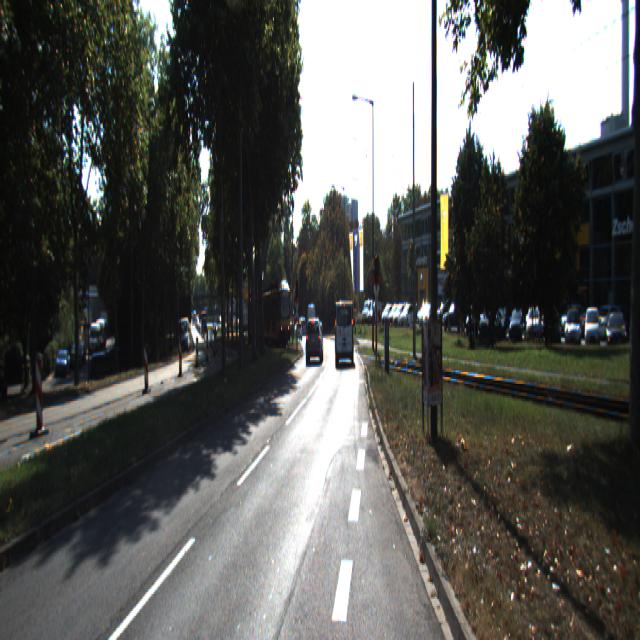Car: (253, 286, 293, 349), (335, 300, 353, 370), (304, 318, 324, 366)
